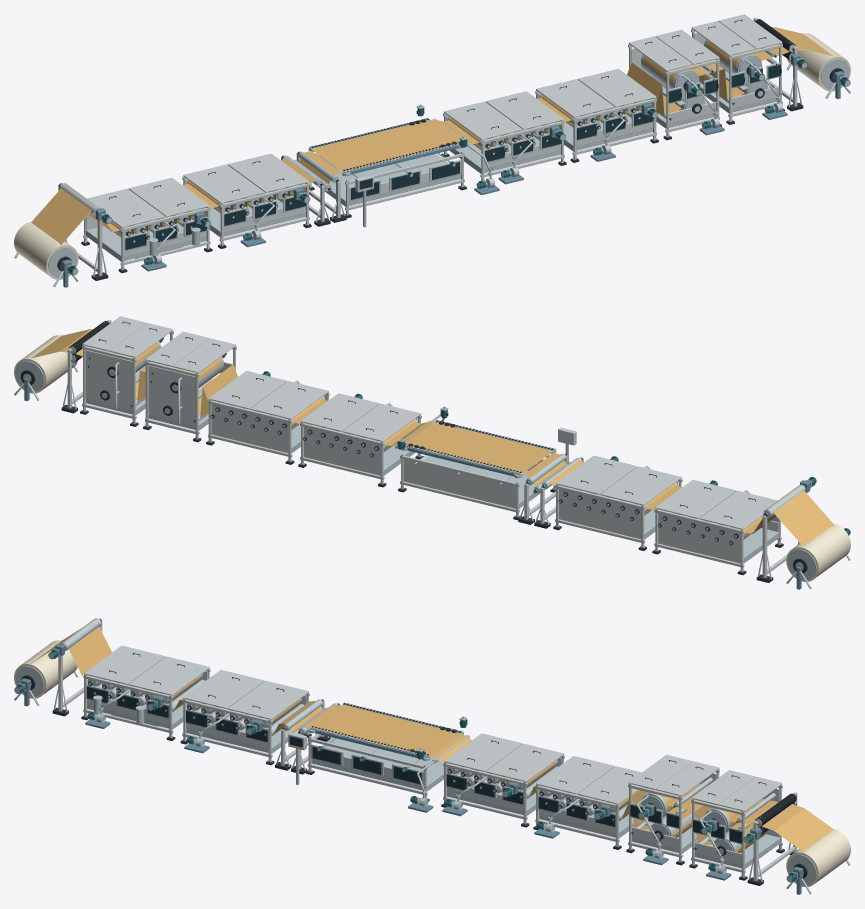
The model's file is mercerizing.glb.
3 views of the same model, one above another, from view 1: azimuth 30°, elevation 25°; view 2: azimuth 150°, elevation 25°; view 3: azimuth 330°, elevation 25° (orthographic).
Parts seen in each view (by area): view 1: MERC_stenter_web, MERC_entry_web, wet_lid.002, wet_lid.001, wet_lid.003, wet_bath.002, wet_lid.006, wet_lid.004, wet_lid.005, wet_lid.007, wet_lid, wet_working_roller (+17 smaller); view 2: MERC_stenter_web, wet_bath_back.002, wet_bath_back, wet_bath_back.001, wet_bath_back.004, wet_bath_back.003, wet_bath_back.006, wet_bath_back.005, MERC_entry_web, wet_lid.002, wet_lid.001, wet_lid.003 (+15 smaller); view 3: MERC_stenter_web, wet_bath.002, MERC_final_web, wet_lid.001, wet_lid.003, wet_lid, wet_lid.002, wet_lid.005, wet_lid.004, wet_lid.006, wet_working_roller.065, wet_lid.007 (+17 smaller).
Part boxes in pixels (x1,y1,x2,y2): MERC_stenter_web: (312,120,458,171); MERC_entry_web: (31,184,111,244); wet_lid.002: (183,164,264,203); wet_lid.001: (128,178,209,216); wet_lid.003: (227,153,308,192); wet_bath.002: (319,154,460,206); wet_lid.006: (536,79,614,117); wet_lid.004: (444,101,522,139); wet_lid.005: (485,91,564,129); wet_lid.007: (577,69,656,107); wet_lid: (87,188,165,227); wet_working_roller: (14,222,78,279); MERC_stenter_web: (406,422,552,473); wet_bath_back.002: (403,459,515,508); wet_bath_back: (658,513,740,563); wet_bath_back.001: (559,489,641,539); wet_bath_back.004: (211,404,288,452); wet_bath_back.003: (304,427,380,475); wet_bath_back.006: (85,350,132,410); wet_bath_back.005: (148,365,195,426); MERC_entry_web: (753,486,833,546); wet_lid.002: (600,466,681,505); wet_lid.001: (655,480,736,518); wet_lid.003: (556,455,637,494); MERC_stenter_web: (313,705,461,756); wet_bath.002: (311,738,447,791); MERC_final_web: (750,804,833,851); wet_lid.001: (128,656,209,695); wet_lid.003: (227,680,308,719); wet_lid: (84,645,165,684); wet_lid.002: (183,670,264,708); wet_lid.005: (485,743,564,782); wet_lid.004: (444,733,522,771); wet_lid.006: (536,756,614,794); wet_working_roller.065: (786,829,850,886); wet_lid.007: (577,766,641,804).
Bounding box in the file's own units: 28.39 × 2.41 × 3.65.
